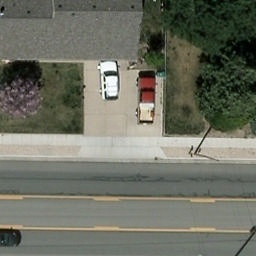car: (98, 61, 119, 102), (0, 233, 21, 247)
pickup: (136, 76, 156, 125)
